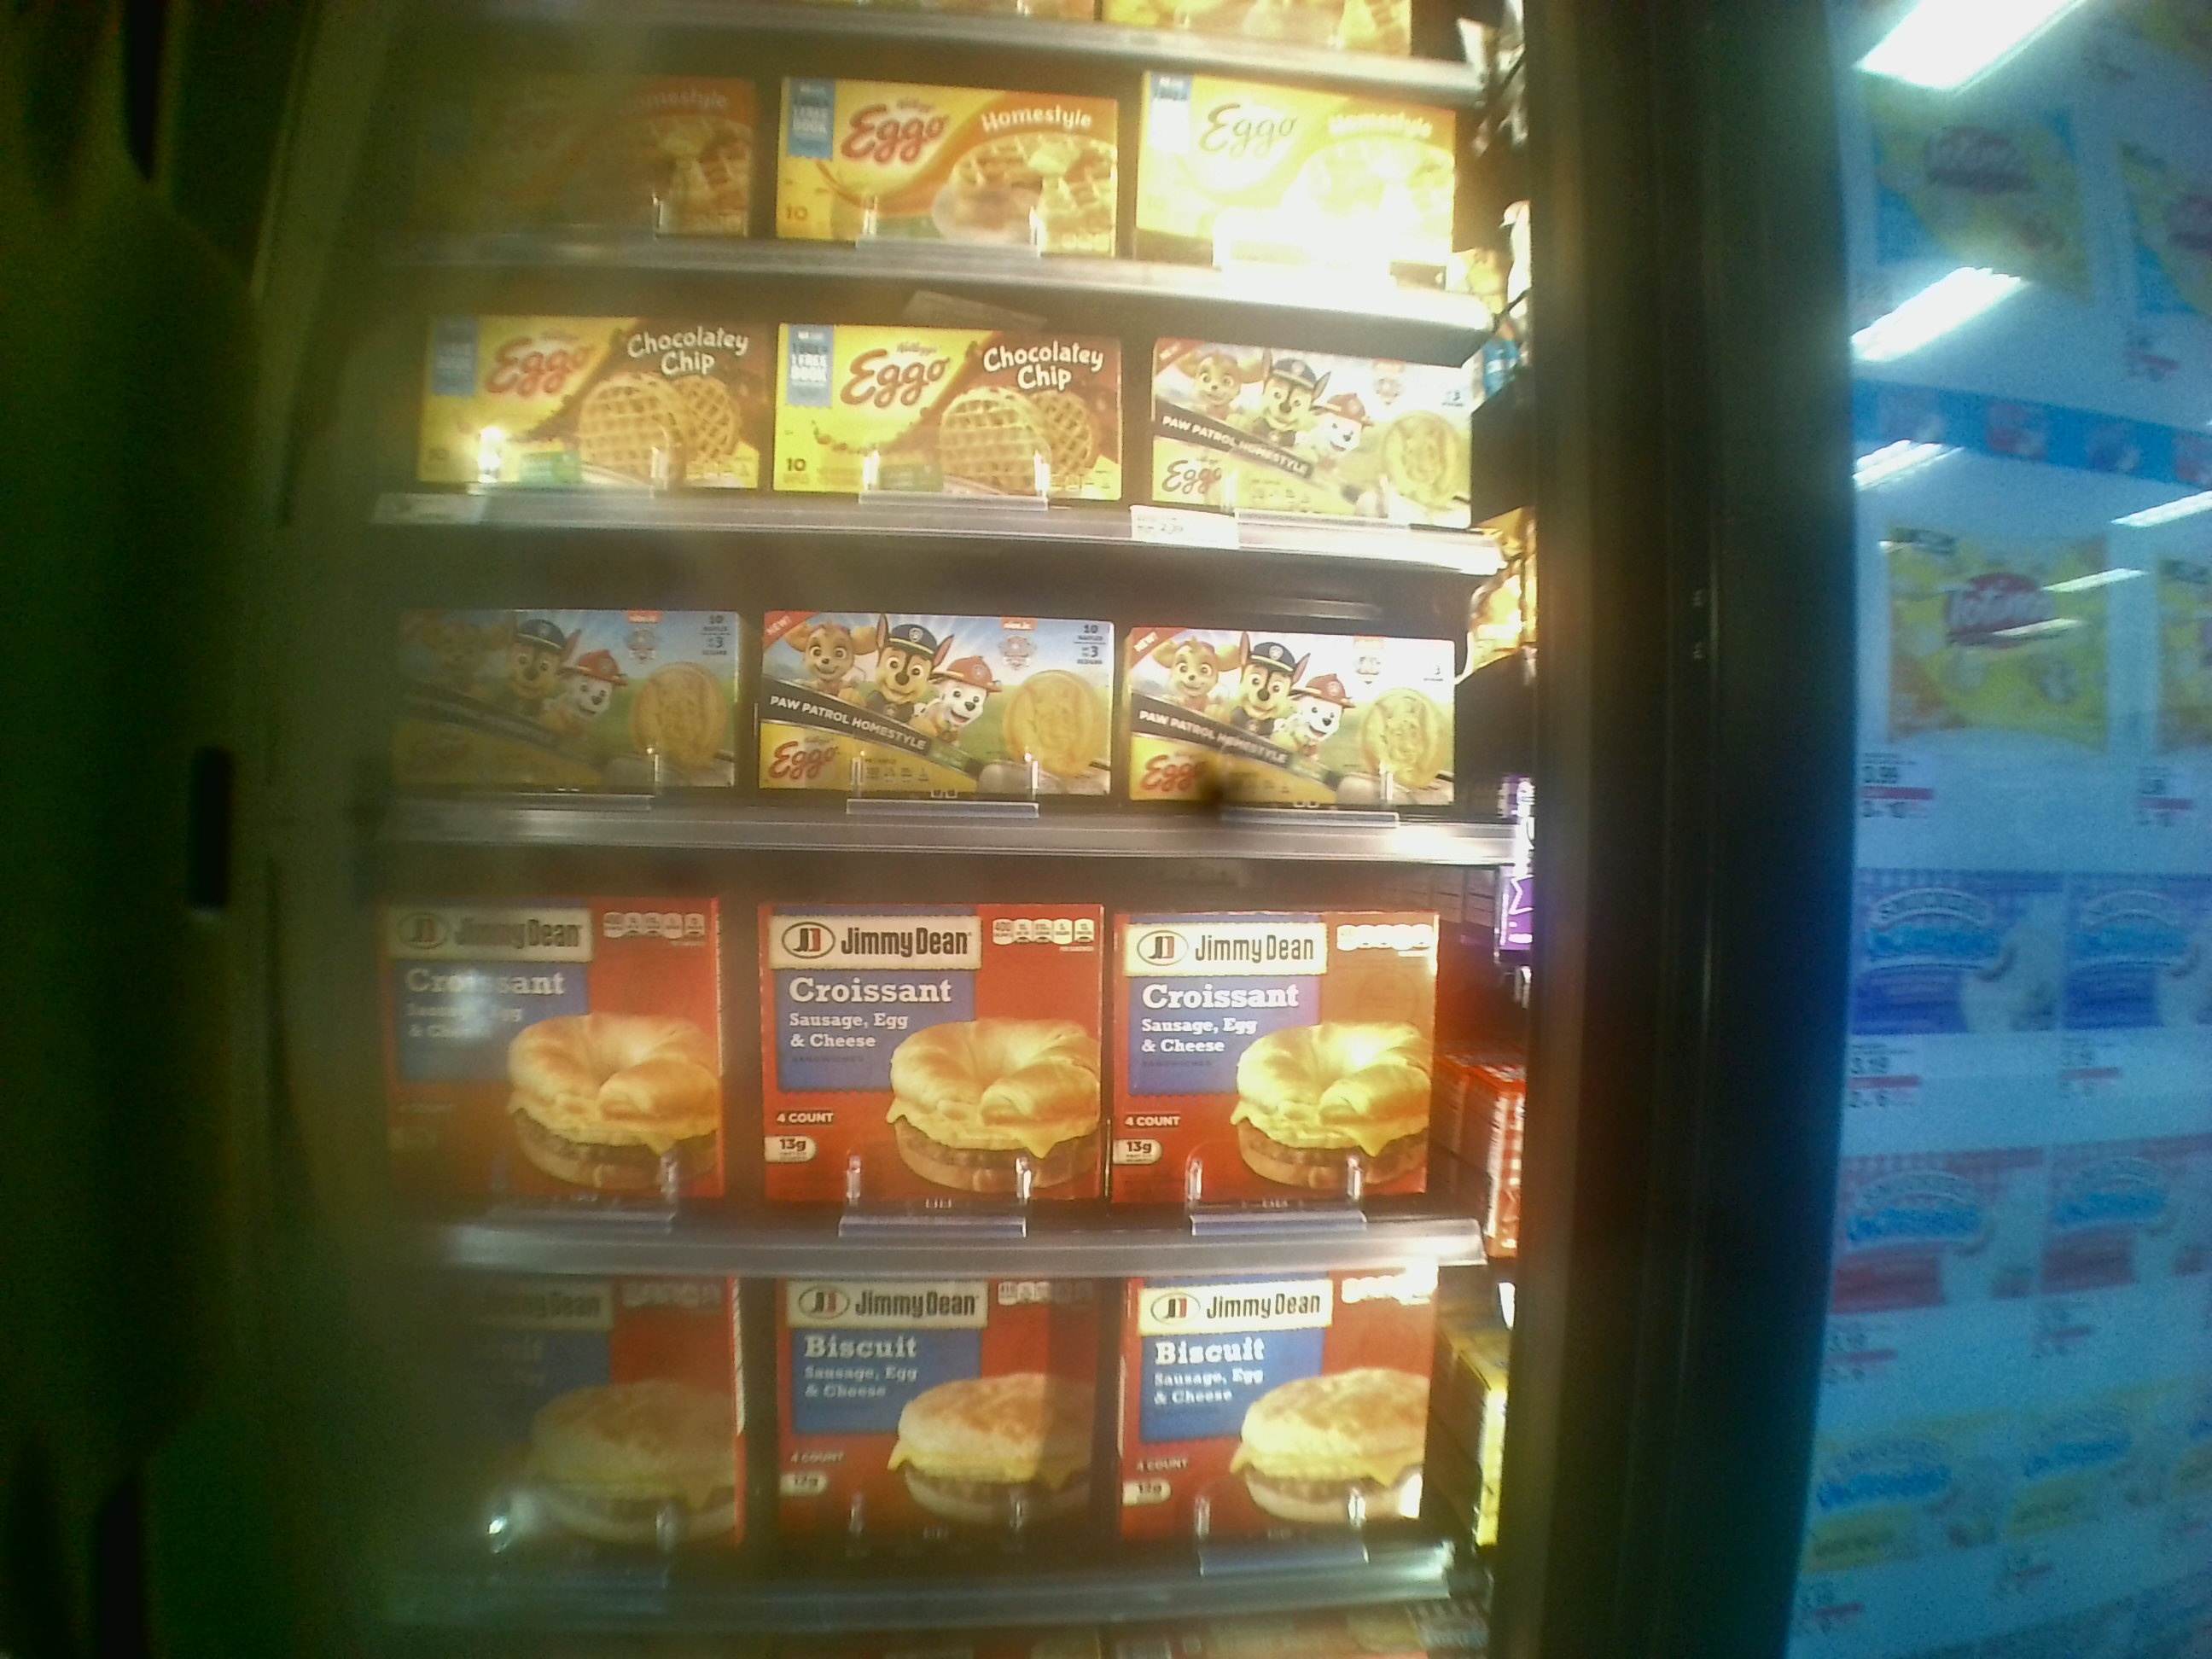shelf: (361, 833, 1484, 1286), (364, 526, 1505, 870)
